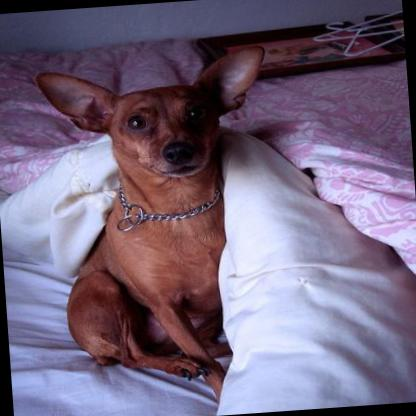miniature_pinscher: (32, 42, 286, 408)
